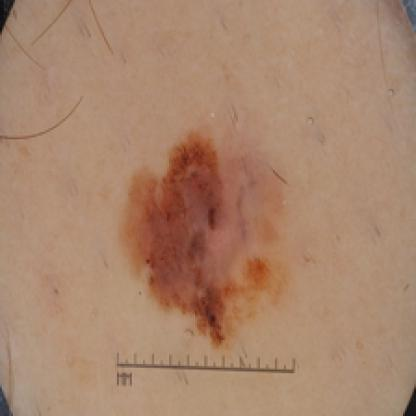malignant: (123, 145, 273, 342)
